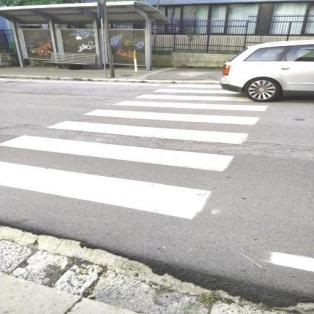Paso de Cebra: (16, 107, 282, 148)
